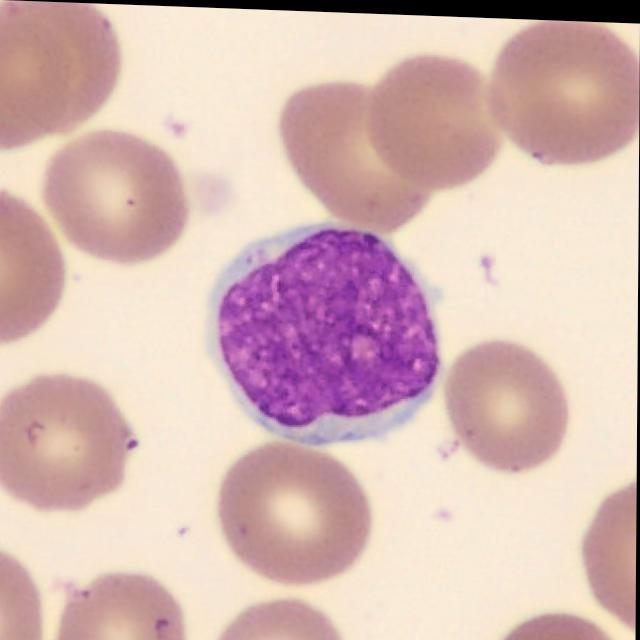Linfocito: (208, 218, 442, 441)
